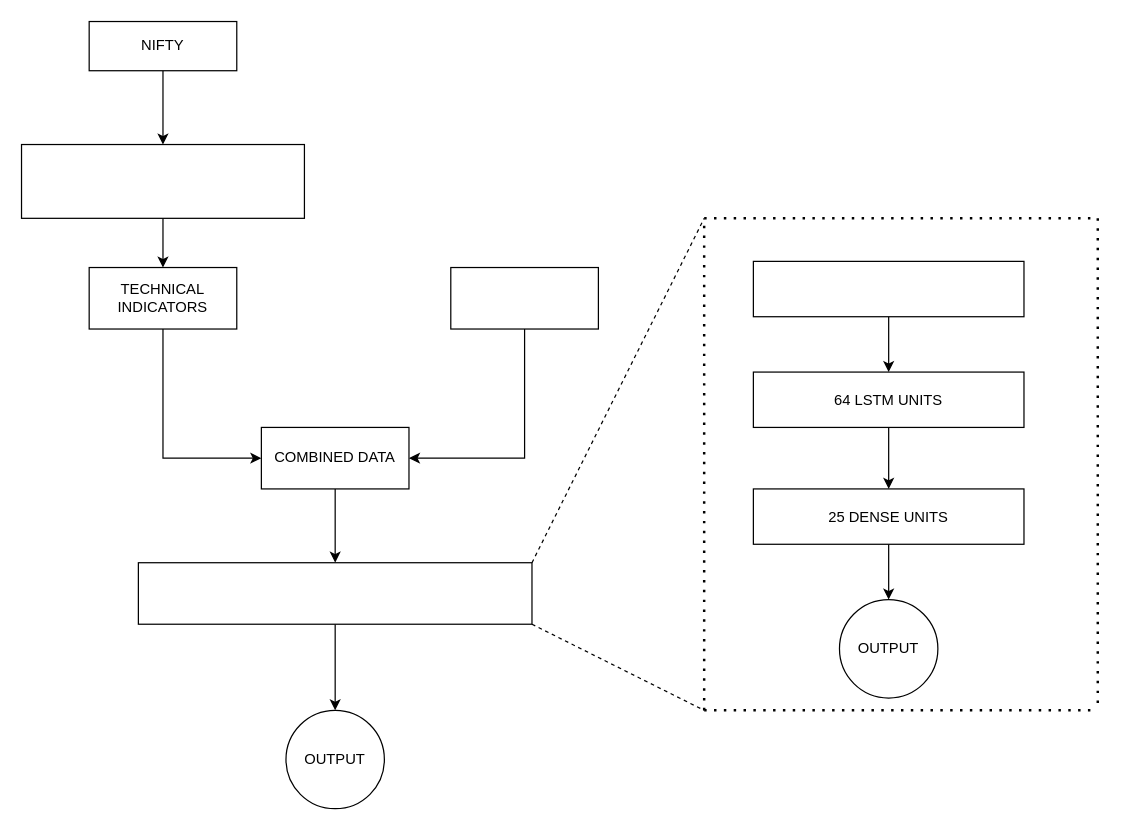
Image size: 1122x830. Some labels were removed from this diagram. Here are the shapes that lost their labels. From the top down, the centre of each, then its label:
At (162,180): "PREPROCESS DATA".
At (524,297): "GLOBAL INDICES".
At (888,288): "128 LSTM UNITS".
At (334,592): "LSTM MODEL".
